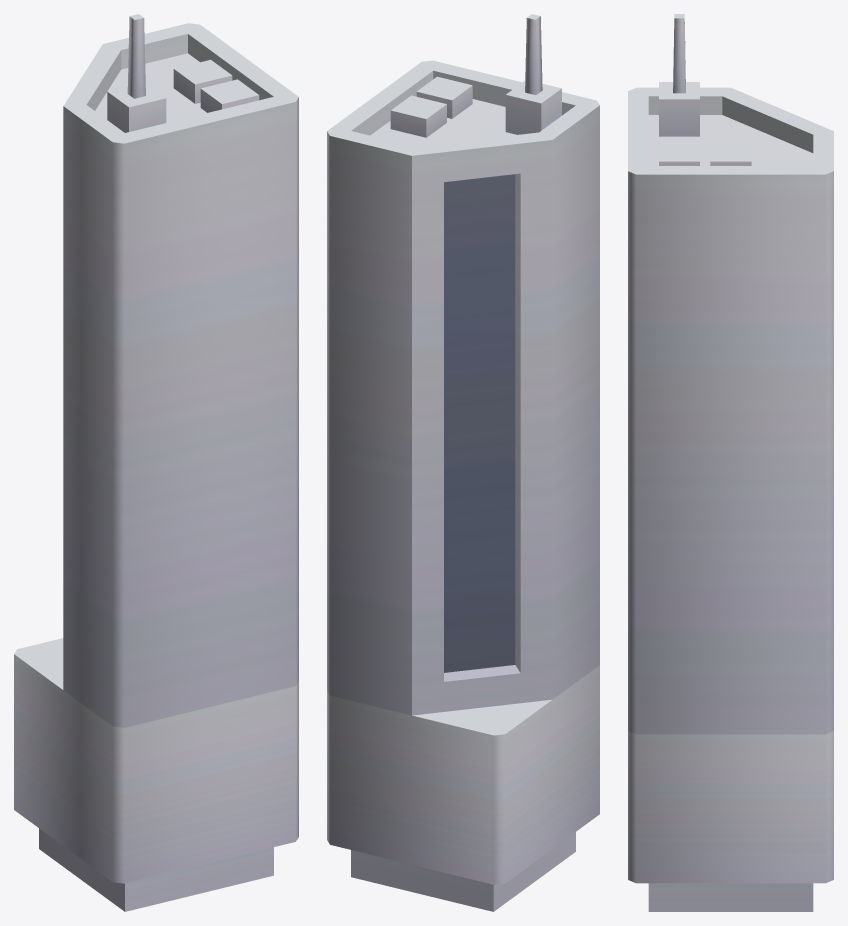
Rendered from low-detail-building-c.glb.
3 views of the same model, side by side, from view 1: azimuth 30°, elevation 25°; view 2: azimuth 150°, elevation 25°; view 3: azimuth 270°, elevation 25° (orthographic). The views are drawn at different scales.
Visible parts, largest first — view 1: low-detail-building-c; view 2: low-detail-building-c; view 3: low-detail-building-c.
Boxes of the visible parts, box(x1,y1,x2,y2) form: low-detail-building-c: box(14, 14, 298, 911); low-detail-building-c: box(327, 14, 599, 911); low-detail-building-c: box(628, 14, 833, 911).
Size of the model in its own units: 0.5 by 2.25 by 0.5.
Materials: 1 (1 with a texture image).
